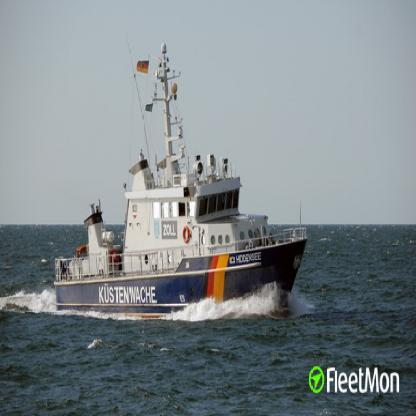Patrol Boat: (52, 43, 308, 318)
